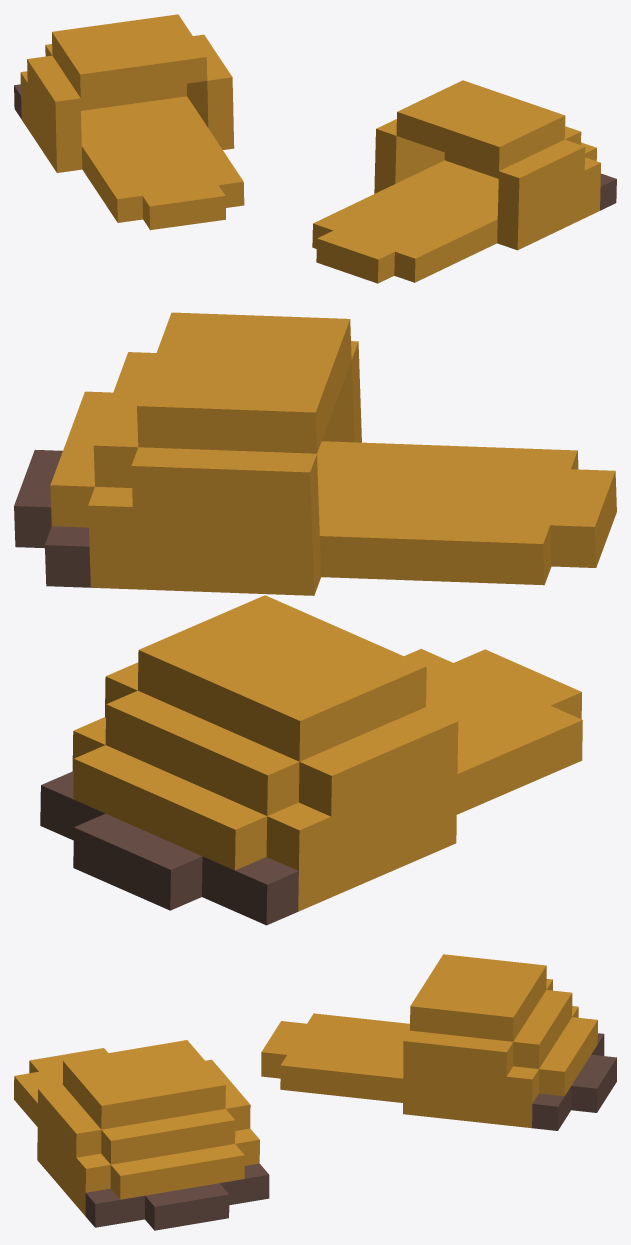
File: doge-paw-slippers.gltf
3 views of the same model, one above another, from view 1: azimuth 30°, elevation 25°; view 2: azimuth 150°, elevation 25°; view 3: azimuth 270°, elevation 25° (orthographic). The views are drawn at different scales.
Visible parts, largest first — view 1: Equip_Right_Foot-Local, Equip_Left_Foot-Local; view 2: Equip_Left_Foot-Local, Equip_Right_Foot-Local; view 3: Equip_Left_Foot-Local, Equip_Right_Foot-Local.
Boxes of the visible parts, x1,y1,x2,y2 form: Equip_Right_Foot-Local: [312, 80, 616, 283]; Equip_Left_Foot-Local: [14, 14, 244, 230]; Equip_Left_Foot-Local: [40, 595, 582, 925]; Equip_Right_Foot-Local: [14, 312, 616, 595]; Equip_Left_Foot-Local: [261, 954, 616, 1130]; Equip_Right_Foot-Local: [14, 1040, 269, 1230].
Bounding box in the file's own units: 17.43 × 4.38 × 22.62.
Materials: 2 (2 with a texture image).
